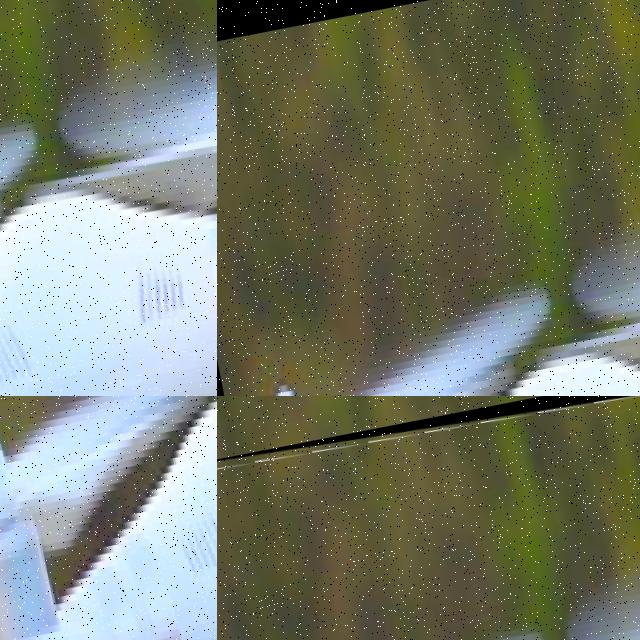0: (217, 396, 640, 640)
drone: (0, 0, 217, 396)
